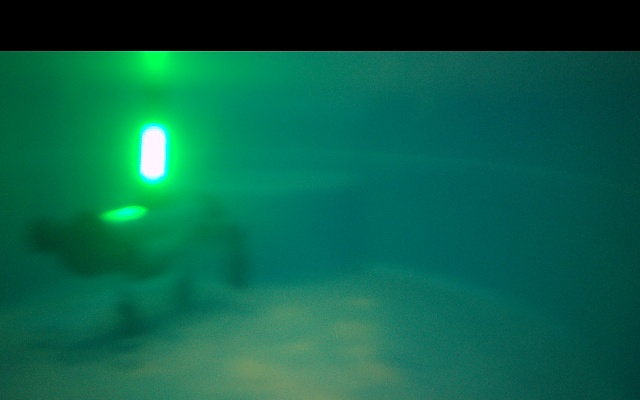green: (139, 116, 165, 197)
